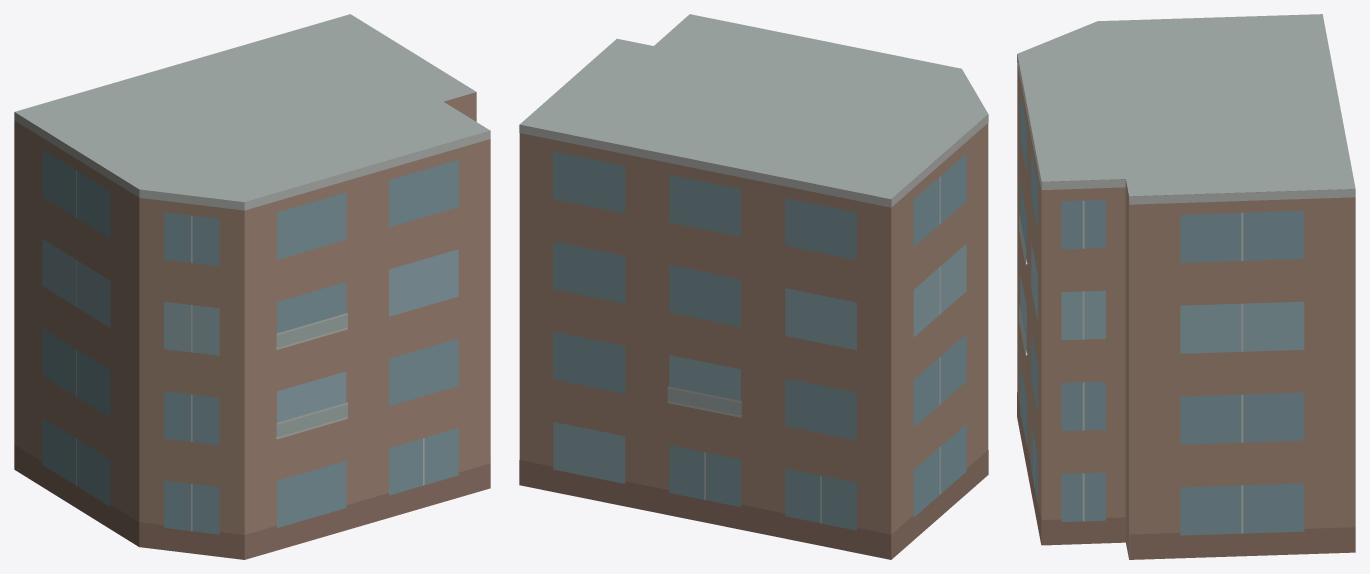
The model's file is survey-upis-32608107.glb.
The picture shows the model from 3 angles, left to right: view 1: azimuth 30°, elevation 25°; view 2: azimuth 150°, elevation 25°; view 3: azimuth 270°, elevation 25°; orthographic projection.
Parts seen in each view (by area): view 1: survey-upis-32608107.tmp; view 2: survey-upis-32608107.tmp; view 3: survey-upis-32608107.tmp.
Part boxes in pixels (<box>): survey-upis-32608107.tmp: <box>14,14,490,559</box>; survey-upis-32608107.tmp: <box>519,14,988,559</box>; survey-upis-32608107.tmp: <box>1017,14,1355,559</box>.
Size of the model in its own units: 11.3 by 10.5 by 8.87.
